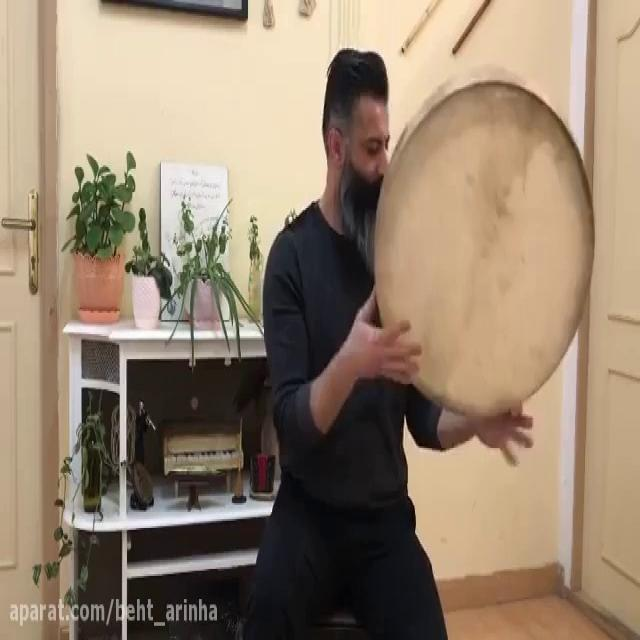Daf: (372, 75, 596, 419)
